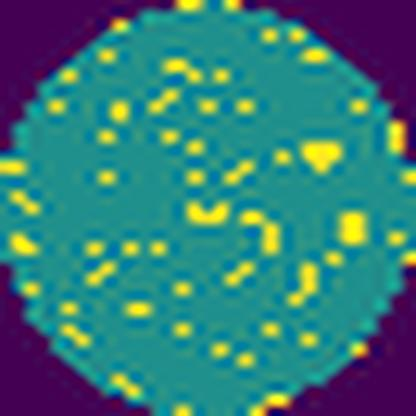Loc: (293, 132, 342, 172), (338, 207, 372, 250), (185, 195, 226, 224)
